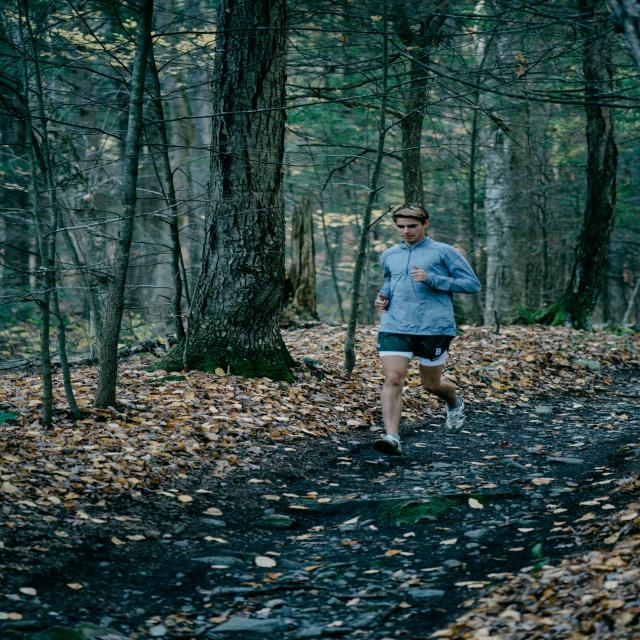running: (365, 199, 487, 458)
